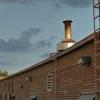Chimney: (58, 8, 76, 49)
